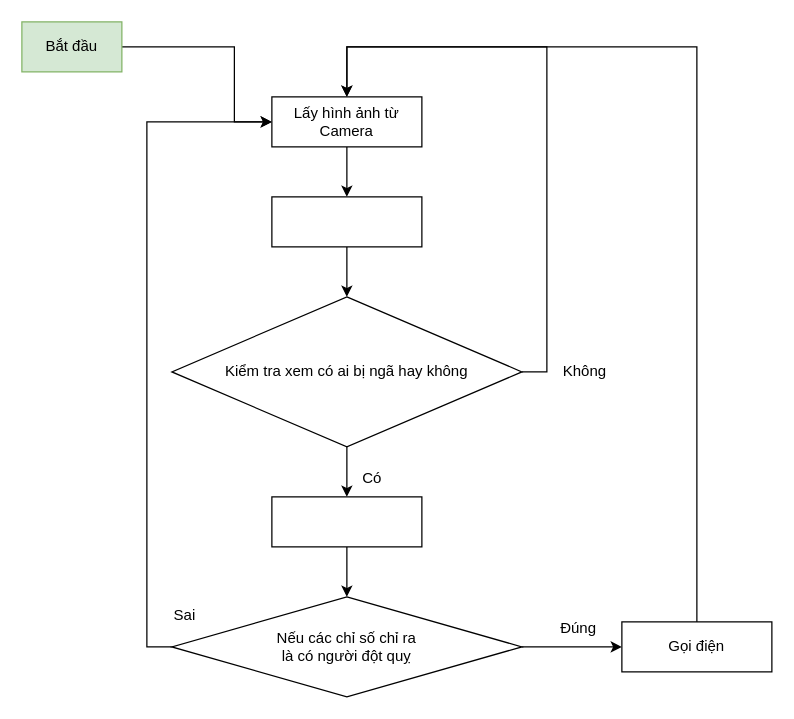
This 794x719 diagram has some shape labels left out. Here are the shapes that lost their labels. From the top down, the centre of each, then its label:
pixel 346 221: Thực hiện các bước chuẩn hóa hình ảnh
pixel 346 521: Lấy dữ liệu về các chỉ số cơ thể từ Firebase
